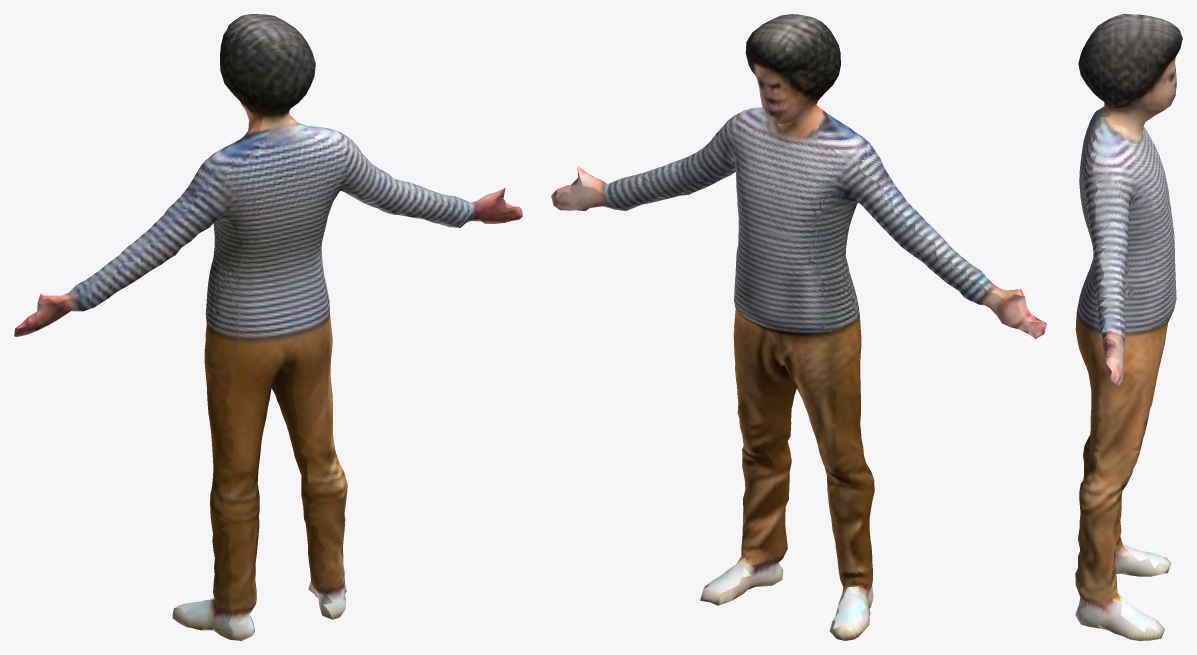
3 renders of one model, left to right at view 1: azimuth 30°, elevation 25°; view 2: azimuth 150°, elevation 25°; view 3: azimuth 270°, elevation 25°, orthographic.
Parts seen in each view (by area): view 1: world; view 2: world; view 3: world.
Boxes of the visible parts, x1,y1,x2,y2 form: world: (14,14,522,640); world: (551,14,1046,640); world: (1075,14,1182,640).
Size of the model in its own units: 0.8862 by 0.9989 by 0.1669.
1 material, 1 textured.
